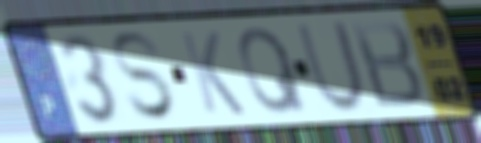3: (56, 30, 125, 128)
B: (346, 17, 428, 111)
K: (176, 29, 249, 118)
Q: (236, 24, 311, 118)
S: (108, 29, 181, 125)
U: (293, 18, 370, 115)
